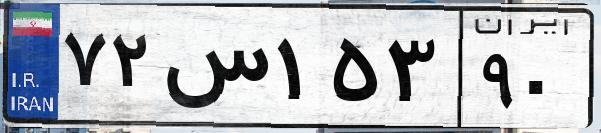0: (525, 38, 570, 115)
1: (270, 28, 330, 110)
2: (110, 28, 158, 98)
3: (385, 28, 445, 110)
5: (330, 28, 385, 110)
7: (57, 26, 110, 100)
9: (475, 38, 525, 113)
س: (158, 20, 270, 120)
